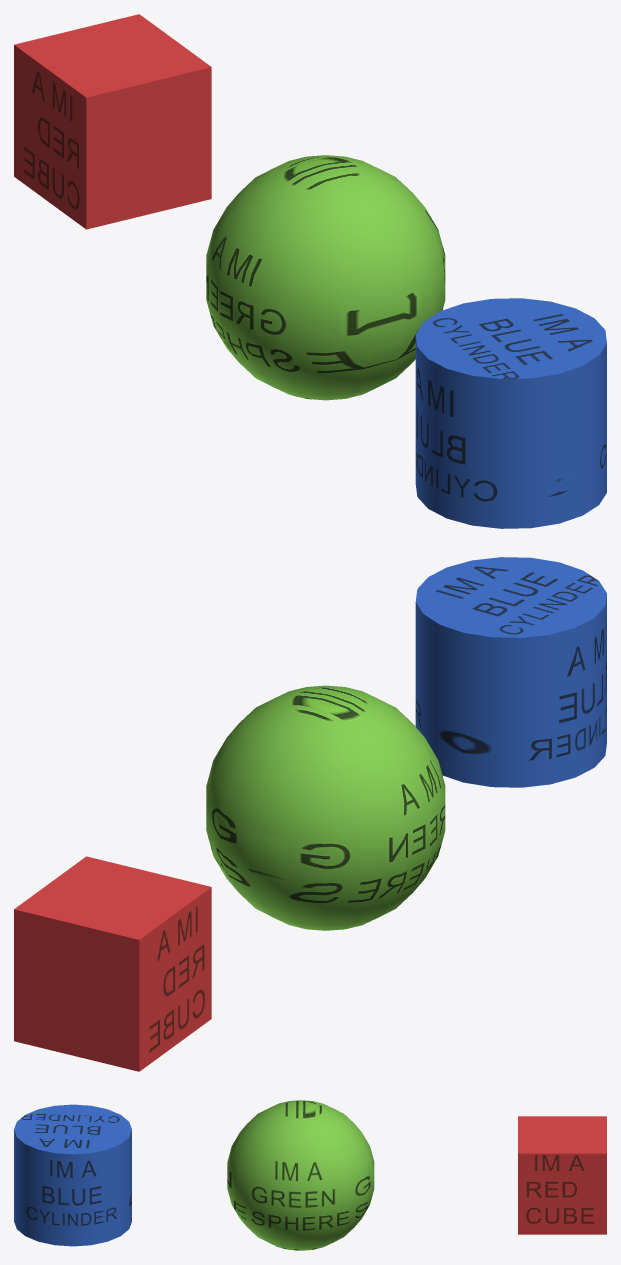
Rendered from multi_m_test.fbx.
The picture shows the model from 3 angles, top to bottom: view 1: azimuth 30°, elevation 25°; view 2: azimuth 150°, elevation 25°; view 3: azimuth 270°, elevation 25°; orthographic projection. The views are drawn at different scales.
Visible parts, largest first — view 1: polySurface1, polySurface3, polySurface2; view 2: polySurface1, polySurface3, polySurface2; view 3: polySurface1, polySurface3, polySurface2.
Boxes of the visible parts, x1=… form: polySurface1: x1=206, y1=155, x2=445, y2=400; polySurface3: x1=415, y1=298, x2=606, y2=528; polySurface2: x1=14, y1=14, x2=211, y2=229; polySurface1: x1=206, y1=685, x2=445, y2=930; polySurface3: x1=415, y1=557, x2=606, y2=787; polySurface2: x1=14, y1=856, x2=211, y2=1071; polySurface1: x1=227, y1=1100, x2=374, y2=1250; polySurface3: x1=14, y1=1104, x2=131, y2=1246; polySurface2: x1=518, y1=1116, x2=606, y2=1234.
Bounding box in the file's own units: 1.99 × 2.01 × 7.9.
